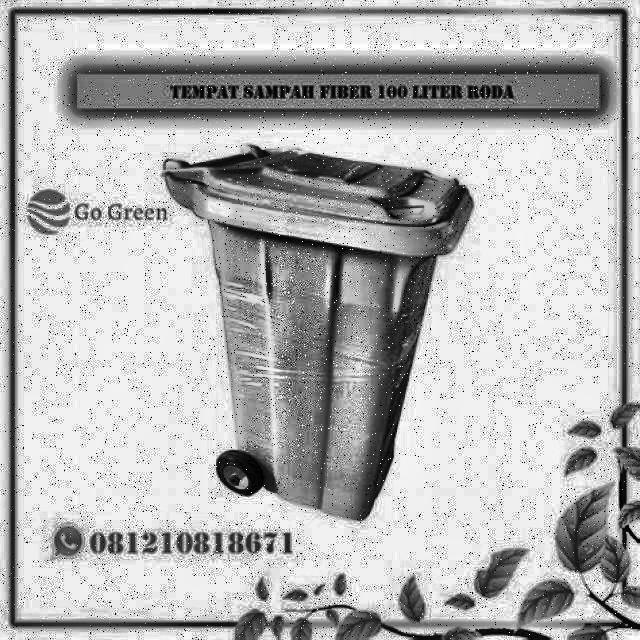Dustbin: (164, 128, 473, 520)
